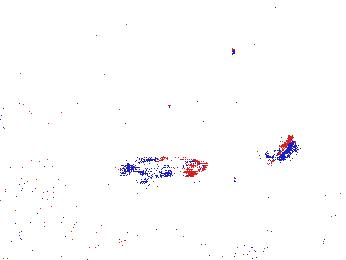X-ray fish: (14, 153, 79, 198), (76, 55, 119, 88)
red belly glassfish: (265, 133, 296, 168)
redtail glassfish: (114, 154, 209, 182)
